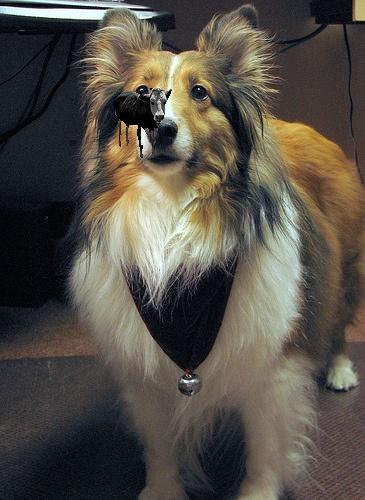tampered: (115, 88, 172, 158)
